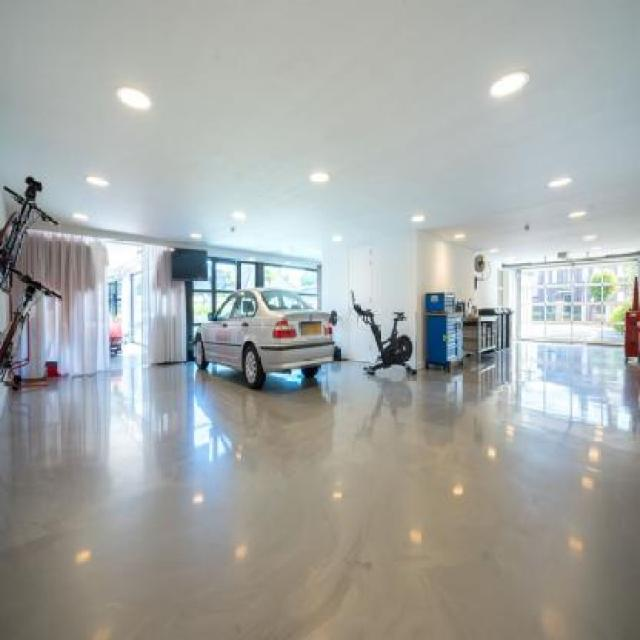floor: (0, 342, 640, 640)
